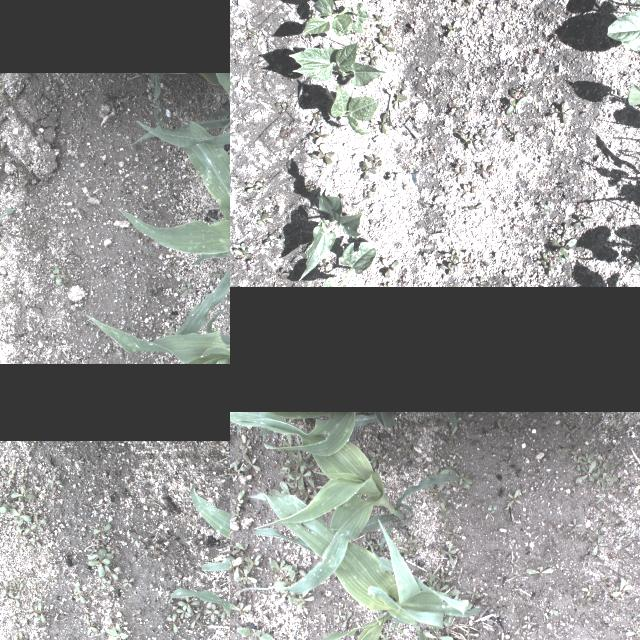crop: (230, 412, 467, 594), (247, 492, 481, 640), (116, 120, 230, 334), (36, 270, 230, 364), (135, 73, 230, 171), (236, 412, 394, 456), (299, 175, 361, 281), (289, 37, 385, 87), (188, 483, 230, 574), (324, 84, 378, 134), (301, 0, 372, 36), (320, 242, 376, 286), (148, 73, 166, 127), (442, 412, 458, 436)
weed: (535, 237, 577, 277), (444, 595, 472, 627), (268, 559, 296, 585), (4, 480, 34, 502), (44, 266, 70, 290), (272, 570, 294, 598), (268, 481, 302, 499), (290, 460, 310, 490), (27, 598, 48, 626), (88, 548, 109, 576), (70, 580, 88, 610), (310, 142, 334, 164), (369, 112, 391, 134), (574, 460, 596, 482), (235, 627, 272, 640), (20, 531, 40, 555), (524, 566, 554, 582), (592, 475, 614, 495), (106, 621, 128, 640), (438, 540, 454, 566), (386, 89, 406, 109), (612, 578, 632, 598), (426, 482, 446, 502), (243, 554, 263, 574), (0, 207, 14, 235), (282, 452, 310, 466), (247, 21, 260, 51), (448, 467, 472, 483), (598, 452, 622, 468), (88, 522, 114, 536), (232, 242, 252, 260), (381, 258, 399, 278), (396, 434, 414, 454), (505, 98, 527, 114), (560, 100, 574, 124), (230, 554, 242, 582), (290, 596, 314, 610), (299, 570, 311, 598), (202, 604, 220, 622), (242, 453, 260, 471), (474, 162, 494, 178), (230, 462, 246, 482), (306, 478, 322, 498), (421, 630, 452, 640), (178, 279, 192, 301), (83, 616, 97, 638), (446, 20, 462, 38), (43, 472, 61, 488), (277, 586, 293, 604), (432, 570, 450, 586), (592, 535, 606, 555), (450, 478, 470, 492), (373, 37, 392, 51), (506, 488, 520, 507), (595, 472, 617, 484), (234, 570, 256, 582), (230, 602, 250, 615), (256, 210, 272, 226), (28, 516, 44, 532), (262, 234, 280, 248), (230, 458, 239, 485), (177, 600, 197, 612), (562, 442, 582, 454), (562, 424, 576, 441), (0, 468, 15, 483), (454, 159, 470, 173), (188, 612, 204, 626), (578, 450, 594, 464), (566, 518, 582, 532), (426, 456, 440, 472), (572, 218, 594, 228), (472, 134, 490, 146), (462, 132, 474, 150), (166, 614, 178, 632), (11, 509, 29, 521), (580, 584, 598, 596), (441, 586, 459, 598), (496, 420, 509, 436), (444, 249, 461, 261), (469, 276, 489, 286), (439, 502, 449, 522), (6, 619, 20, 633), (88, 540, 102, 554), (300, 488, 314, 502), (508, 127, 520, 143), (122, 572, 134, 588), (16, 526, 32, 538), (281, 432, 293, 448), (230, 498, 243, 512), (417, 418, 435, 428), (230, 557, 241, 573), (444, 528, 461, 538), (555, 224, 567, 238), (106, 565, 118, 579), (524, 615, 536, 629), (465, 587, 479, 599), (100, 578, 116, 588), (342, 611, 352, 627), (398, 546, 414, 556), (369, 450, 379, 466), (432, 584, 448, 594), (426, 574, 436, 590), (0, 581, 12, 594), (625, 627, 640, 637), (230, 75, 239, 91), (177, 606, 189, 618), (618, 528, 630, 540), (332, 610, 344, 622), (424, 564, 436, 576), (404, 536, 416, 548), (288, 473, 300, 485), (280, 466, 292, 478), (7, 593, 21, 603), (628, 412, 638, 426), (570, 456, 580, 470), (588, 464, 598, 478), (241, 440, 251, 454), (246, 578, 260, 588), (604, 418, 616, 429), (301, 462, 313, 473), (427, 628, 438, 640), (388, 172, 398, 184), (246, 182, 256, 194), (255, 182, 267, 192), (545, 607, 557, 617), (514, 624, 526, 634), (513, 428, 525, 438), (257, 609, 267, 621), (236, 542, 248, 552), (390, 624, 402, 634), (410, 538, 420, 550), (359, 540, 371, 550), (2, 503, 16, 511), (236, 490, 244, 504), (438, 412, 446, 426), (230, 126, 236, 143), (230, 510, 240, 520), (396, 424, 406, 434), (378, 452, 388, 462), (463, 629, 472, 640), (456, 567, 464, 579), (446, 434, 454, 446), (446, 459, 456, 468), (298, 417, 306, 428), (380, 635, 397, 640), (15, 633, 27, 640), (510, 558, 518, 568), (459, 635, 475, 640), (231, 546, 241, 554), (373, 539, 381, 549), (230, 541, 235, 556), (488, 504, 497, 512), (633, 456, 640, 466), (15, 582, 23, 590), (427, 636, 443, 640), (427, 450, 435, 458), (368, 542, 376, 550), (372, 437, 380, 445), (28, 508, 38, 514), (574, 423, 580, 433), (596, 462, 600, 474), (587, 594, 595, 600), (530, 417, 536, 425), (239, 610, 247, 616), (637, 483, 640, 498), (454, 552, 460, 558), (455, 452, 461, 458), (402, 467, 406, 473), (544, 614, 548, 618), (487, 493, 491, 497), (511, 471, 515, 475), (397, 476, 399, 484)
